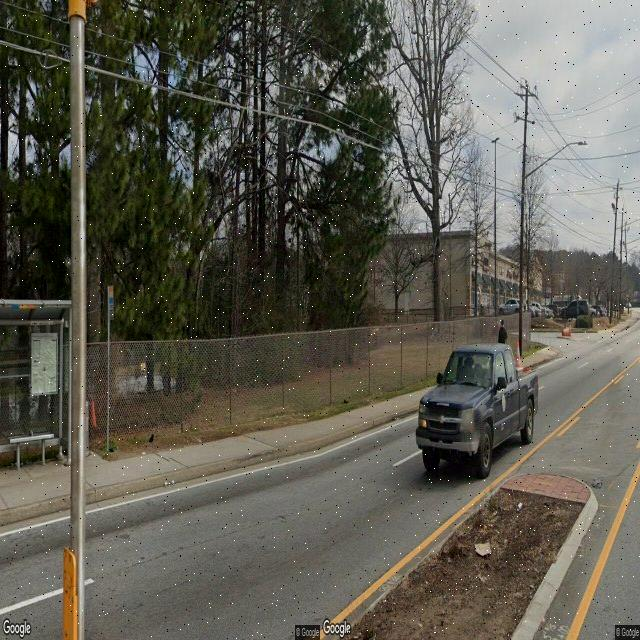seating: (8, 432, 58, 472)
shelter: (1, 300, 74, 487)
